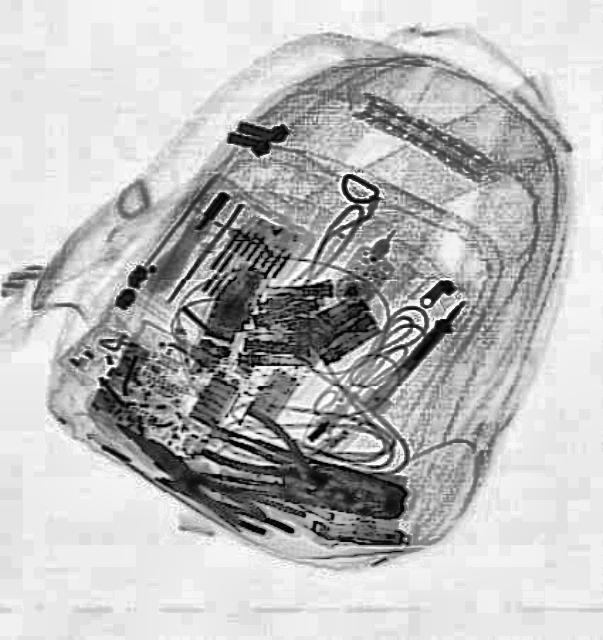Pliers: (195, 393, 358, 509)
